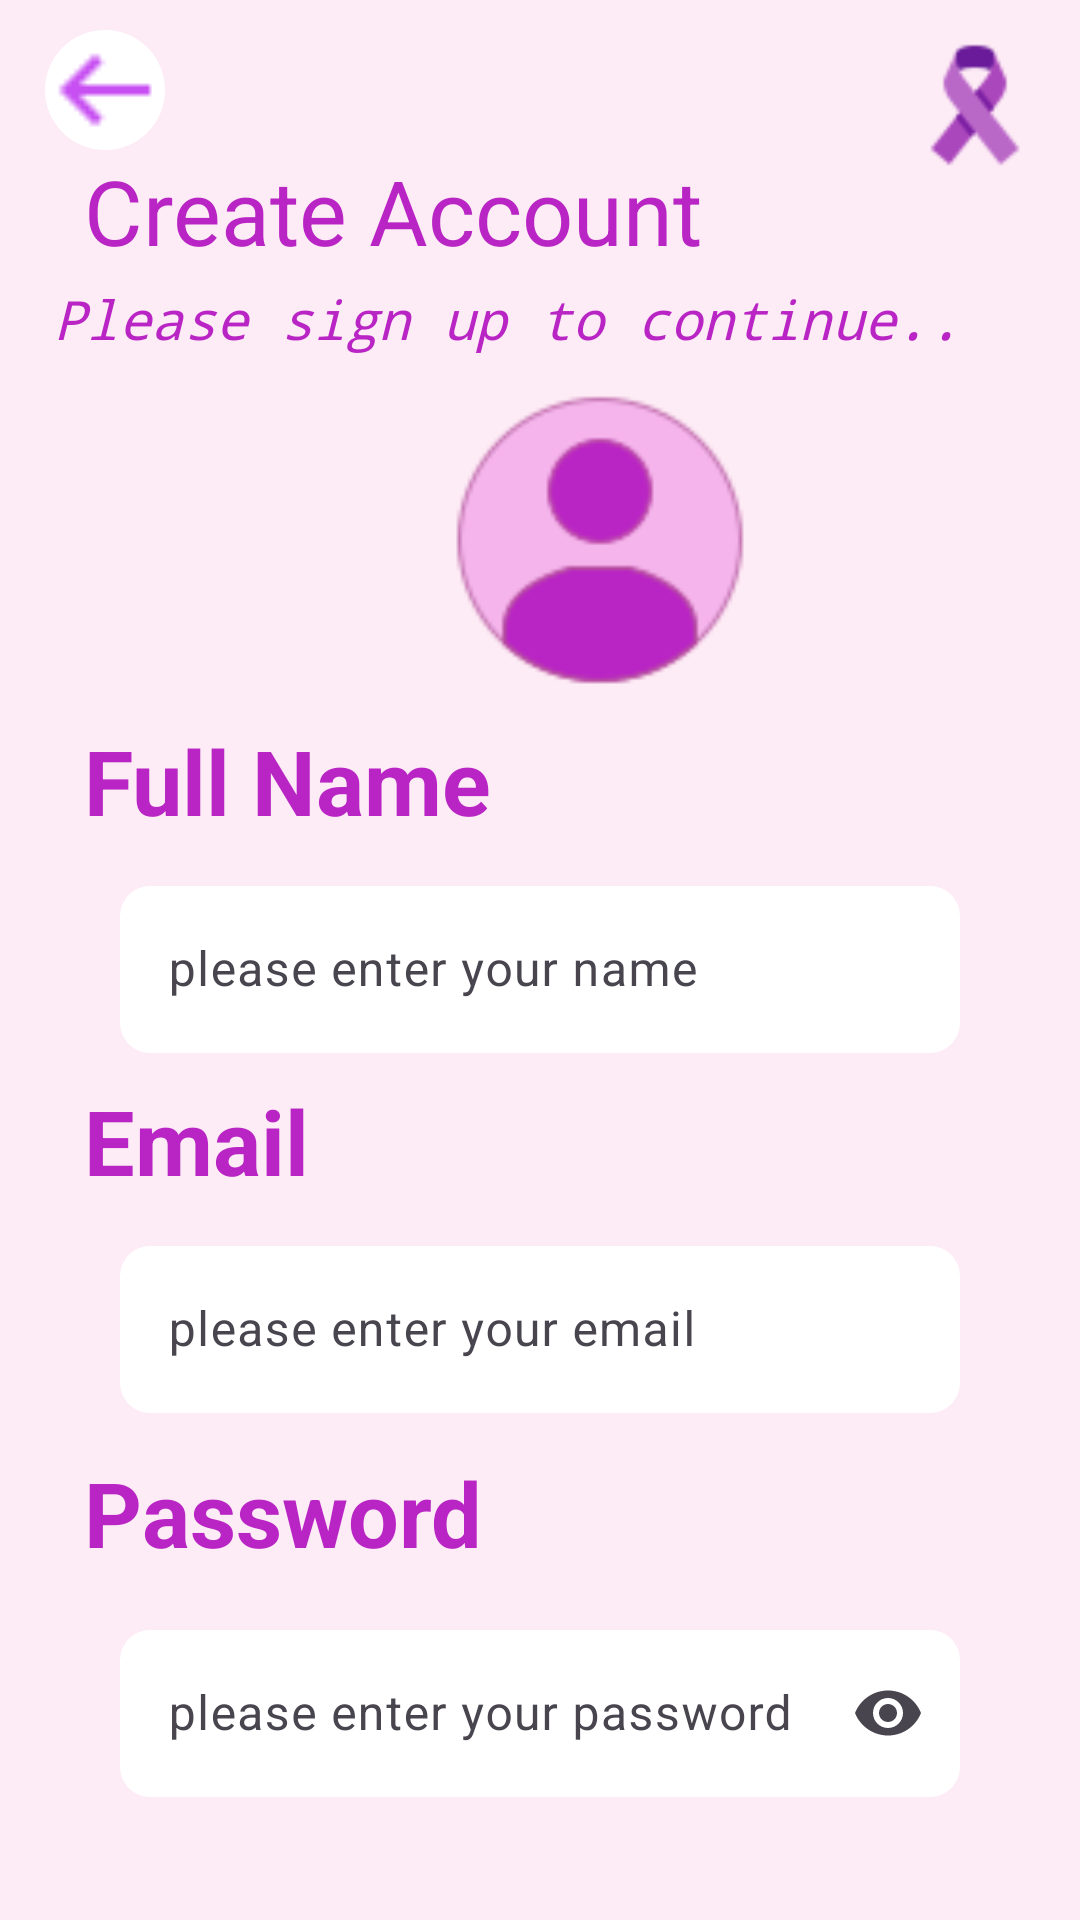

Icons on this 1080px×1920px Android screen, each with the point to tap as (x=x, y=y):
back: (x=105, y=90)
profile ph: (x=600, y=540)
